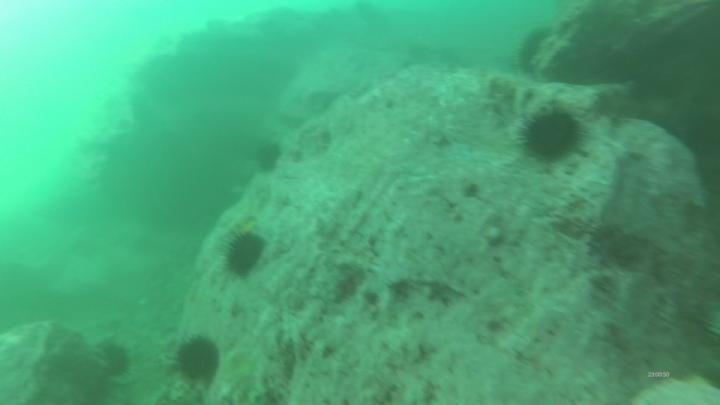echinus: (529, 113, 579, 161), (178, 341, 218, 383), (227, 237, 266, 271), (102, 346, 132, 378), (255, 145, 277, 170)
